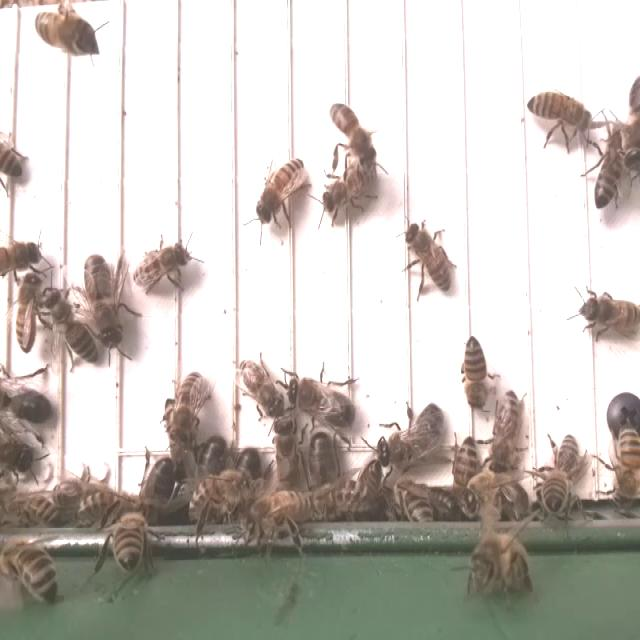Drone: (374, 399, 445, 474), (83, 247, 126, 352), (285, 373, 355, 435), (0, 381, 58, 431)
Worker: (45, 287, 100, 370), (251, 155, 307, 227), (402, 219, 450, 297), (130, 239, 192, 293), (33, 11, 99, 60), (590, 130, 628, 215), (166, 369, 207, 447), (524, 87, 592, 134), (318, 163, 380, 214), (327, 98, 374, 163), (237, 354, 282, 420), (487, 391, 521, 476), (579, 292, 640, 336), (460, 331, 489, 416), (14, 274, 43, 355)
